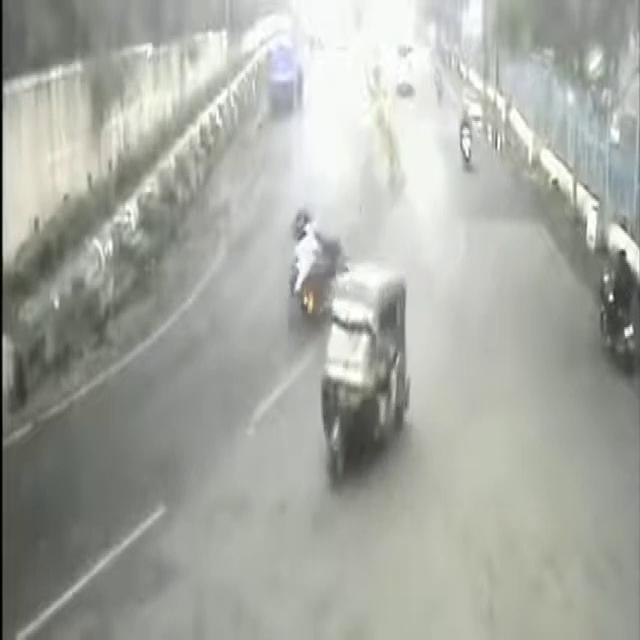accident: (276, 194, 344, 331)
